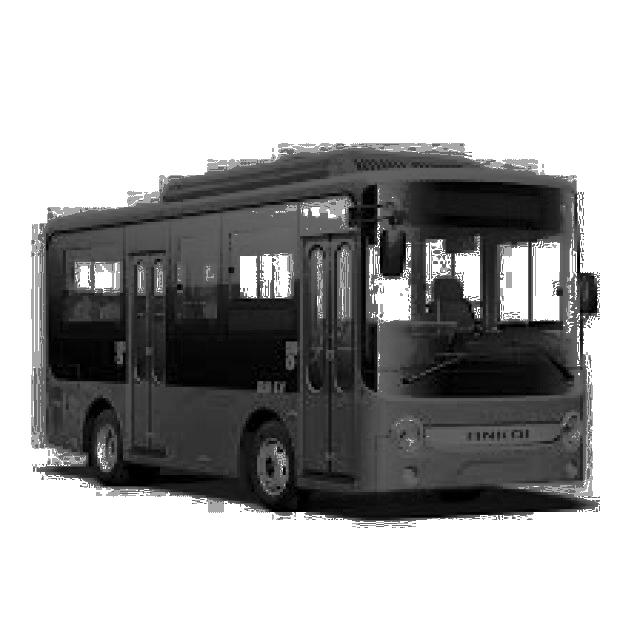Bus: (38, 139, 608, 557)
